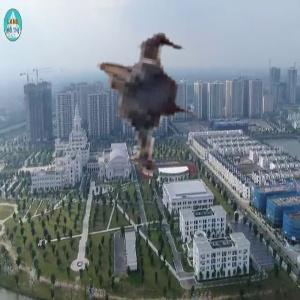drone: (66, 7, 242, 183)
